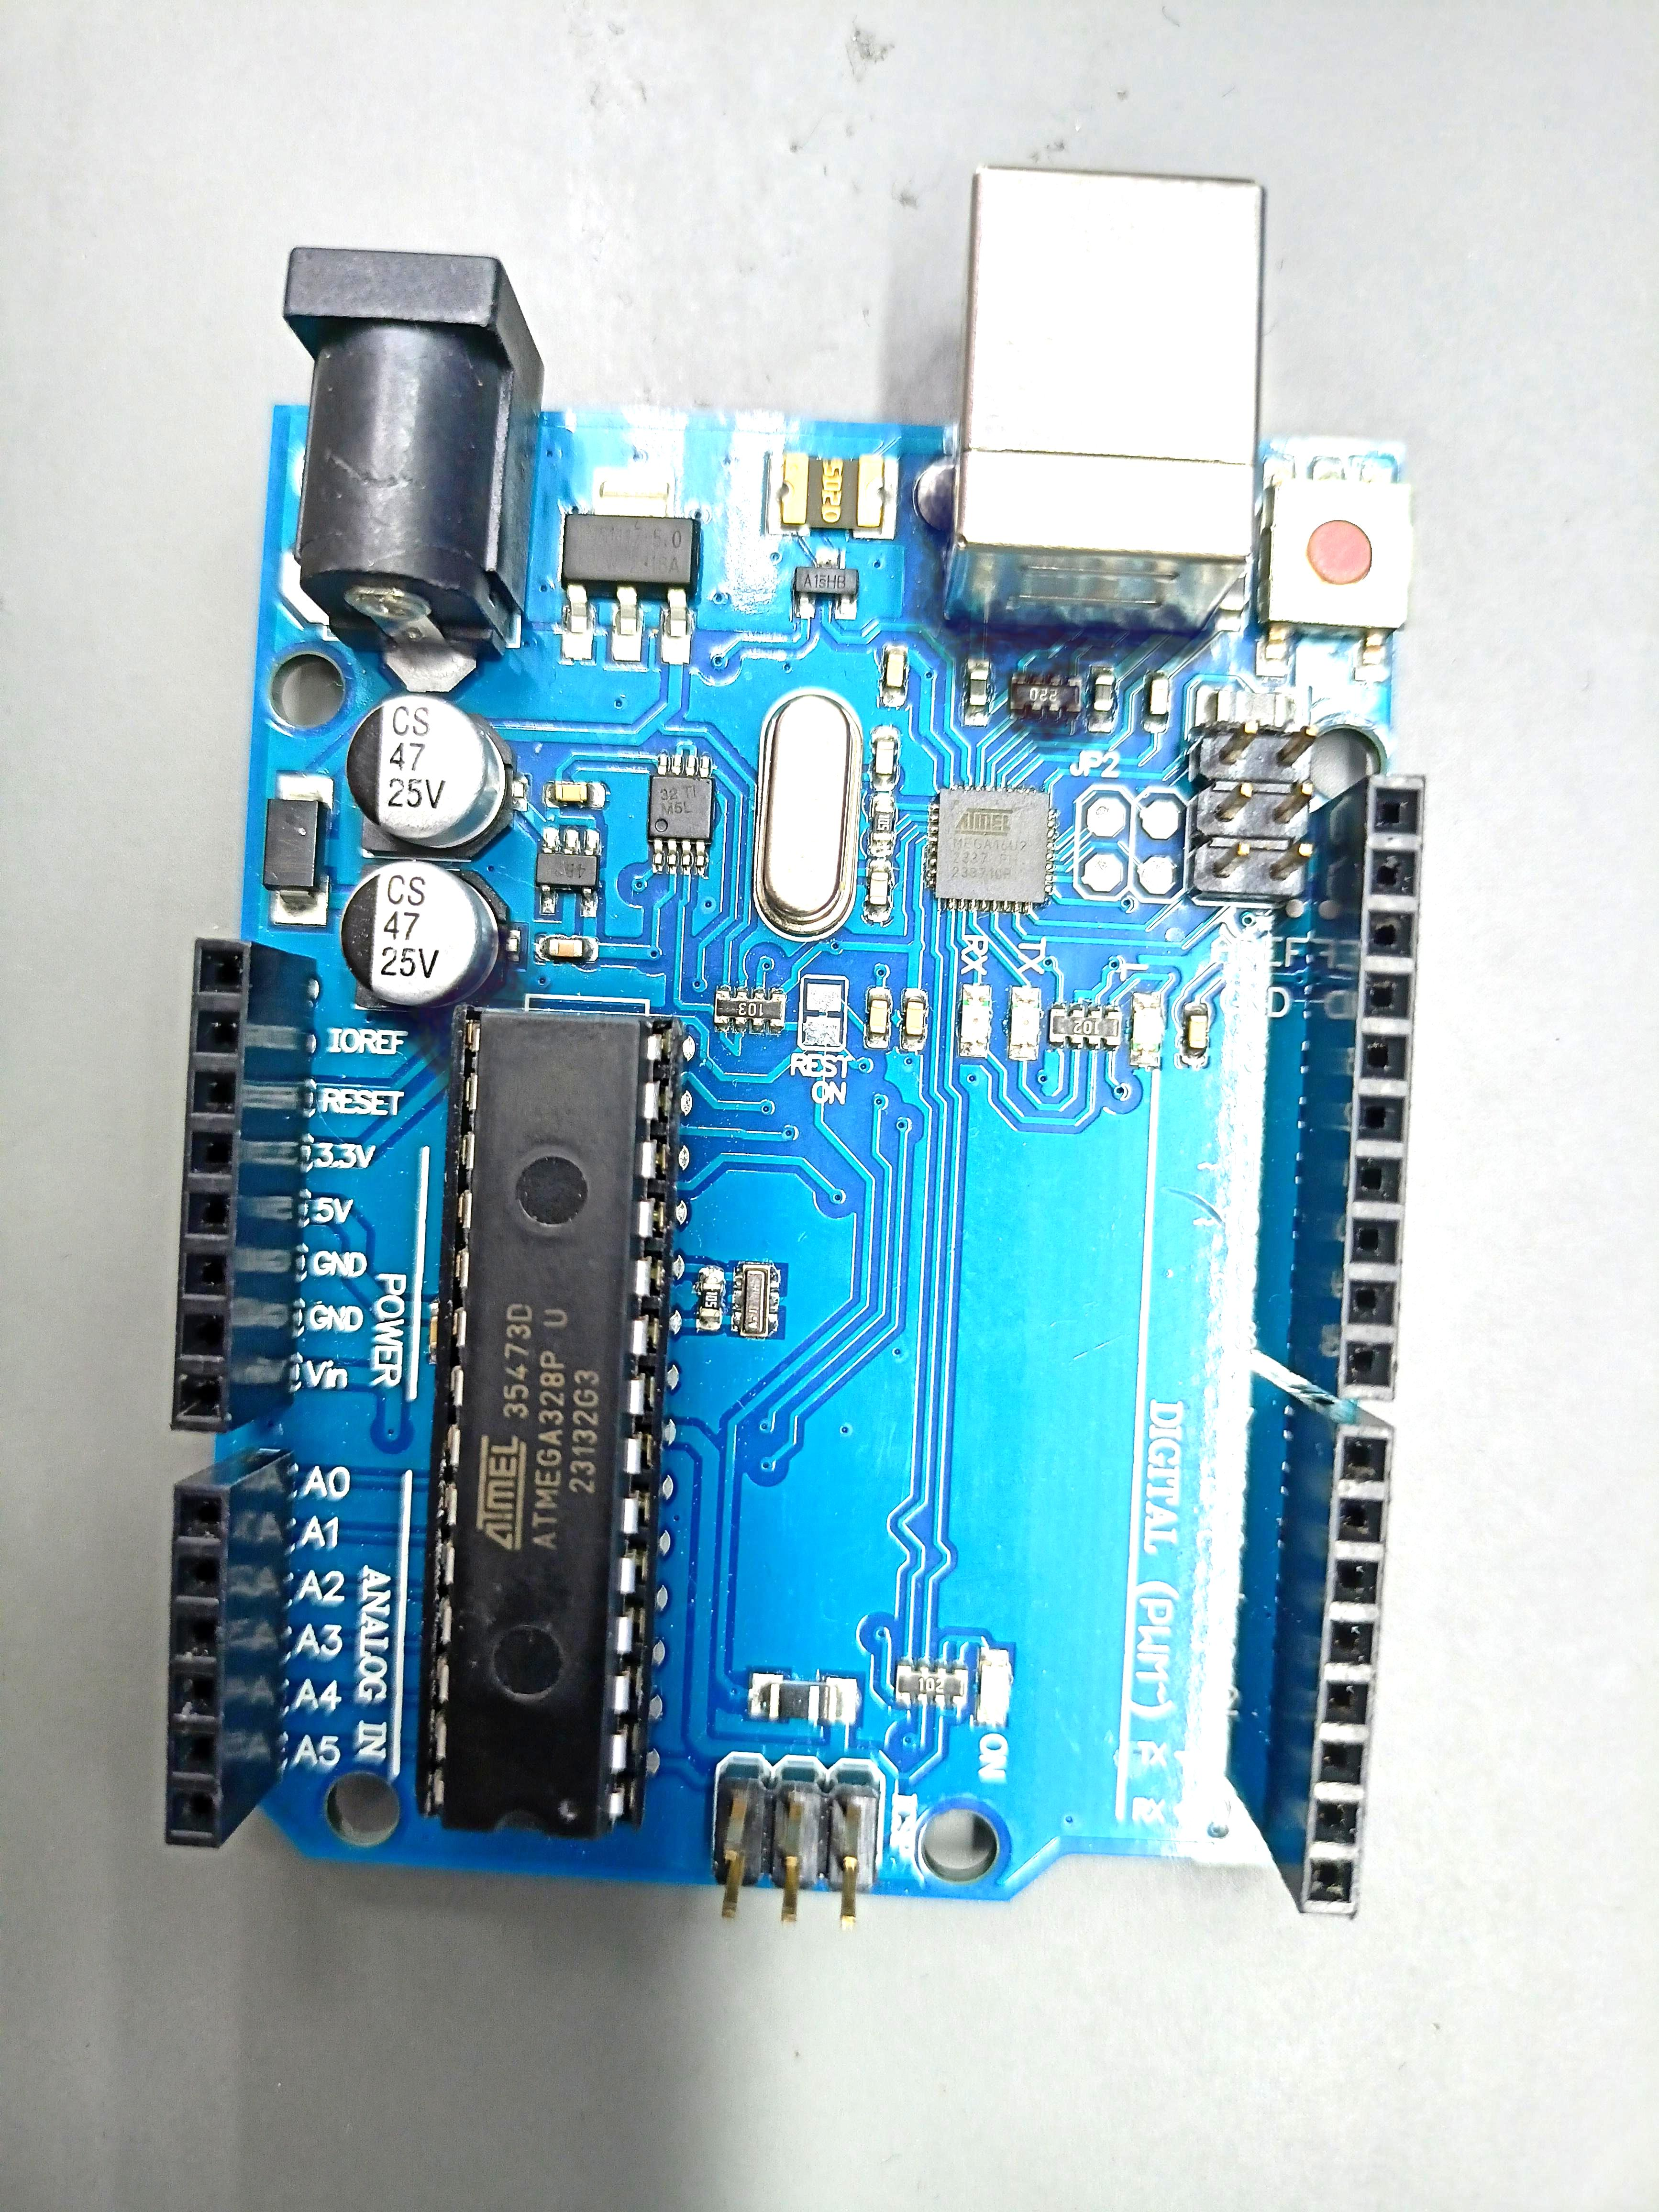ATmega328 chip: (416, 1003, 685, 1839)
Arduino board: (164, 165, 1427, 1925)
Overheat: (903, 439, 1227, 752), (373, 927, 552, 1101)
USB: (945, 165, 1265, 629)
capacitor: (347, 693, 518, 862), (340, 860, 511, 1010)
pins: (1290, 775, 1425, 1402), (169, 937, 317, 1433), (1262, 1392, 1394, 1921), (166, 1447, 295, 1848)
resistor: (1049, 1005, 1122, 1049), (896, 1662, 969, 1705), (714, 988, 786, 1031), (1009, 674, 1082, 716)
